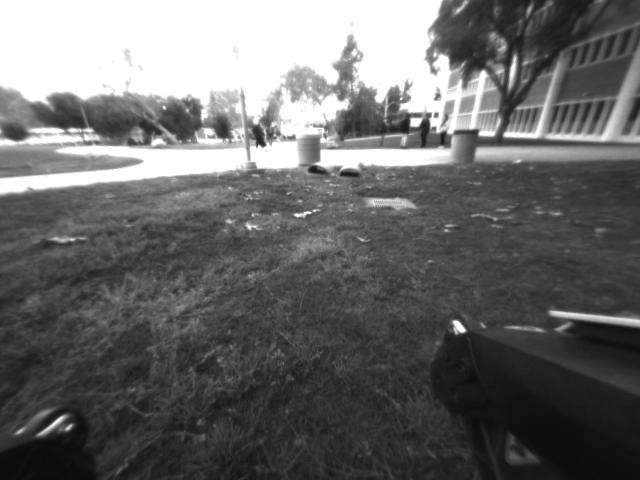trashcan: (291, 130, 328, 171), (445, 127, 479, 171)
